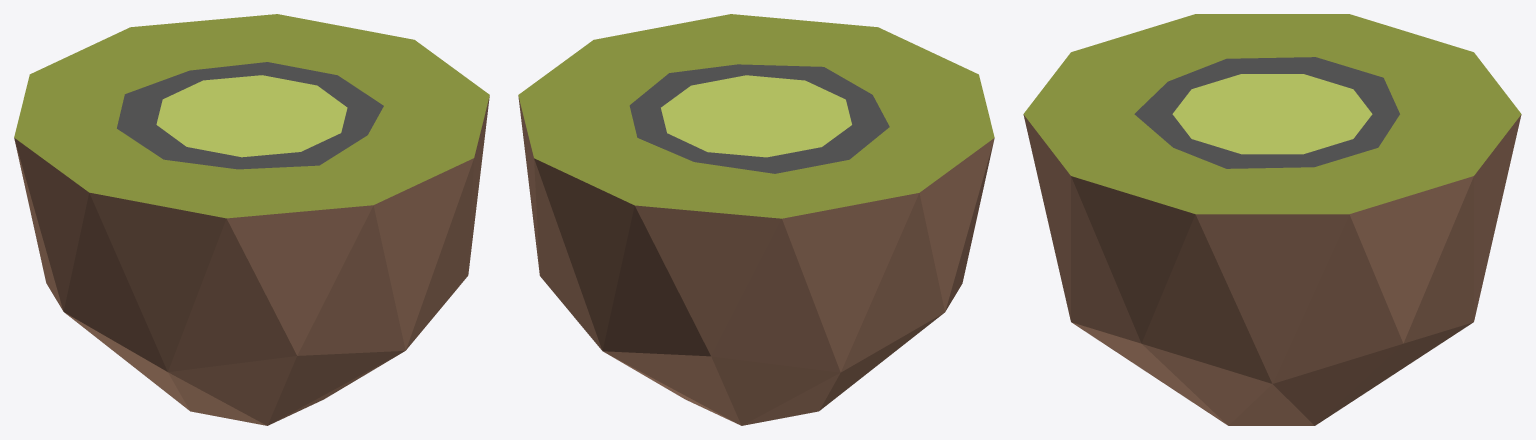
File: Kiwi_02.fbx
3 views of the same model, side by side, from view 1: azimuth 30°, elevation 25°; view 2: azimuth 150°, elevation 25°; view 3: azimuth 270°, elevation 25° (orthographic). The views are drawn at different scales.
Parts seen in each view (by area): view 1: Kiwi_02; view 2: Kiwi_02; view 3: Kiwi_02.
Boxes of the visible parts, box(x1,y1,x2,y2) form: Kiwi_02: box(14, 14, 489, 425); Kiwi_02: box(518, 14, 994, 425); Kiwi_02: box(1023, 14, 1521, 425).
Bounding box in the file's own units: 6.22 × 4.3 × 6.54.
